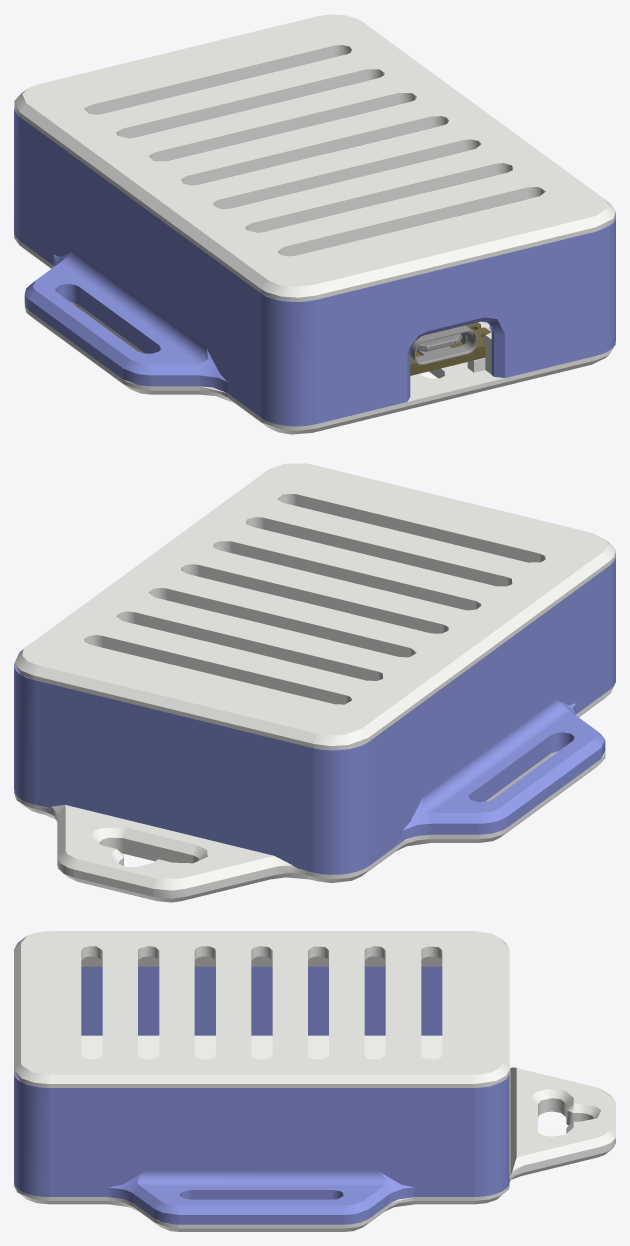
File: ada-6002.glb
3 views of the same model, one above another, from view 1: azimuth 30°, elevation 25°; view 2: azimuth 150°, elevation 25°; view 3: azimuth 270°, elevation 25° (orthographic). The views are drawn at different scales.
Visible parts, largest first — view 1: 0.9166666666666666_0.9166666666666666_0.9166666666666666_0.8, 0.25_0.3333333333333333_0.8333333333333334_0, 0.3333333333333333_0.3333333333333333_0.3333333333333333_0, 0.16666666666666666_0.16666666666666666_0.08333333333333333_; view 2: 0.9166666666666666_0.9166666666666666_0.9166666666666666_0.8, 0.25_0.3333333333333333_0.8333333333333334_0; view 3: 0.9166666666666666_0.9166666666666666_0.9166666666666666_0.8, 0.25_0.3333333333333333_0.8333333333333334_0.
Boxes of the visible parts, box(x1,y1,x2,y2) form: 0.9166666666666666_0.9166666666666666_0.9166666666666666_0.8: box(14, 14, 615, 434); 0.25_0.3333333333333333_0.8333333333333334_0: box(14, 75, 615, 426); 0.3333333333333333_0.3333333333333333_0.3333333333333333_0: box(410, 325, 477, 364); 0.16666666666666666_0.16666666666666666_0.08333333333333333_: box(410, 322, 490, 375); 0.9166666666666666_0.9166666666666666_0.9166666666666666_0.8: box(14, 463, 615, 902); 0.25_0.3333333333333333_0.8333333333333334_0: box(14, 507, 615, 874); 0.9166666666666666_0.9166666666666666_0.9166666666666666_0.8: box(14, 931, 615, 1231); 0.25_0.3333333333333333_0.8333333333333334_0: box(14, 966, 509, 1224).
Size of the model in its own units: 6.84 by 2.02 by 8.5.
